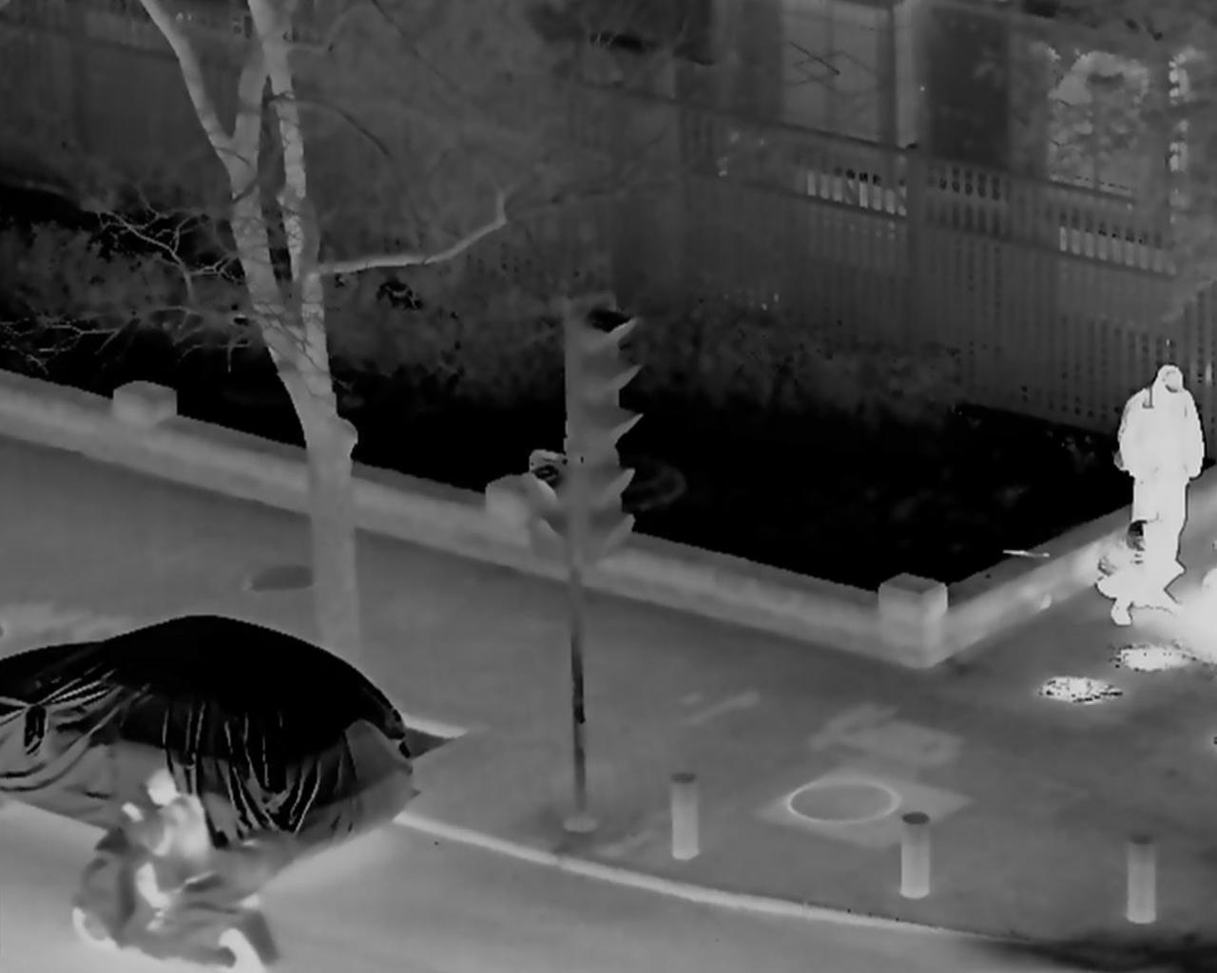person: (1116, 361, 1207, 577), (125, 772, 220, 937), (1089, 513, 1182, 625)
